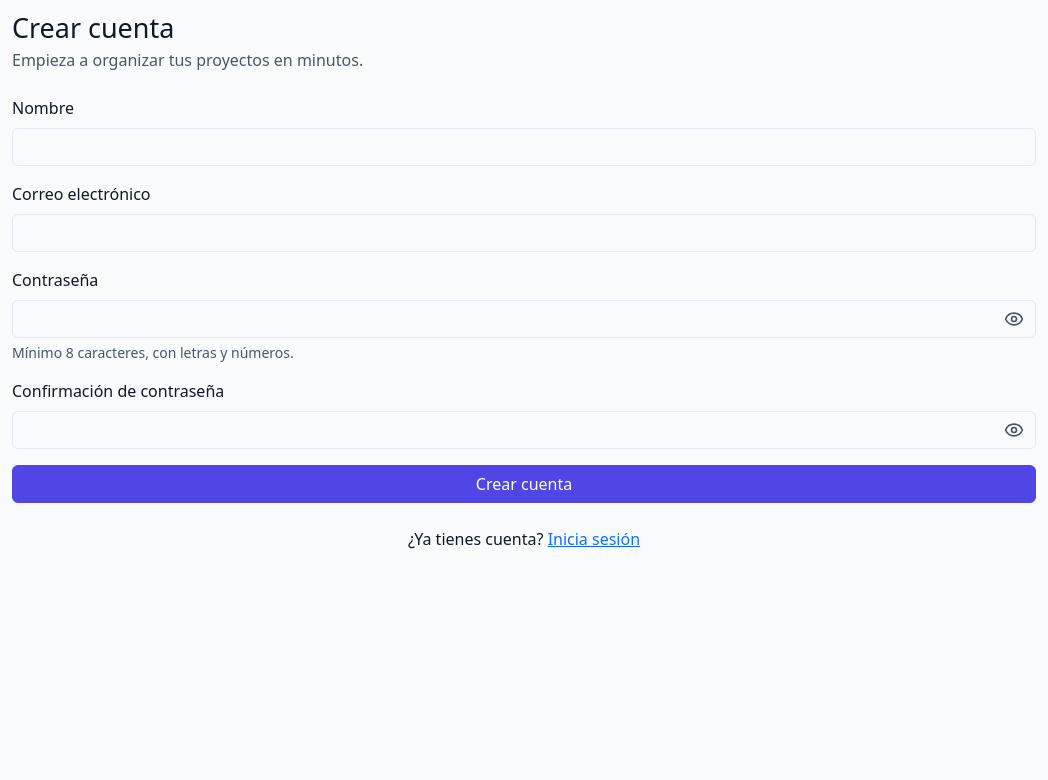
it: PaginaRegistro › rechaza una contraseña sin número
Type "abcdefgh" into the password field labelled "Contraseña" at (524, 319), box left=12, top=300, right=1036, bottom=338
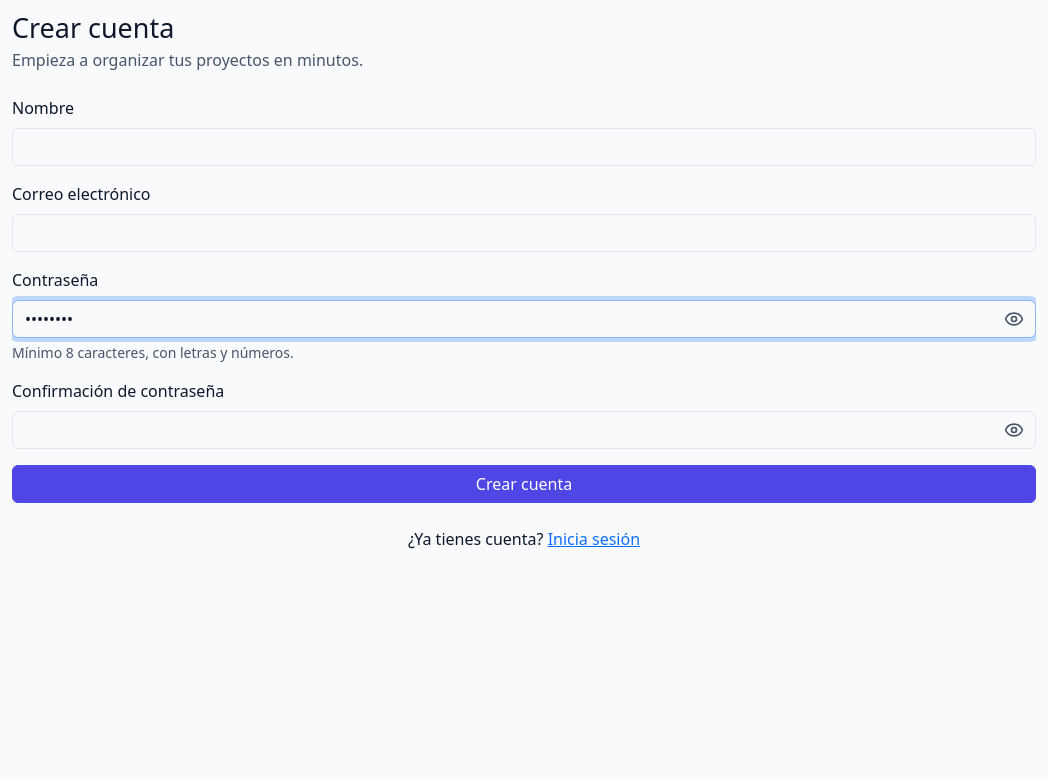
Type "abcdefgh" into the password field labelled "Confirmación de contraseña" at (524, 430), box left=12, top=411, right=1036, bottom=449
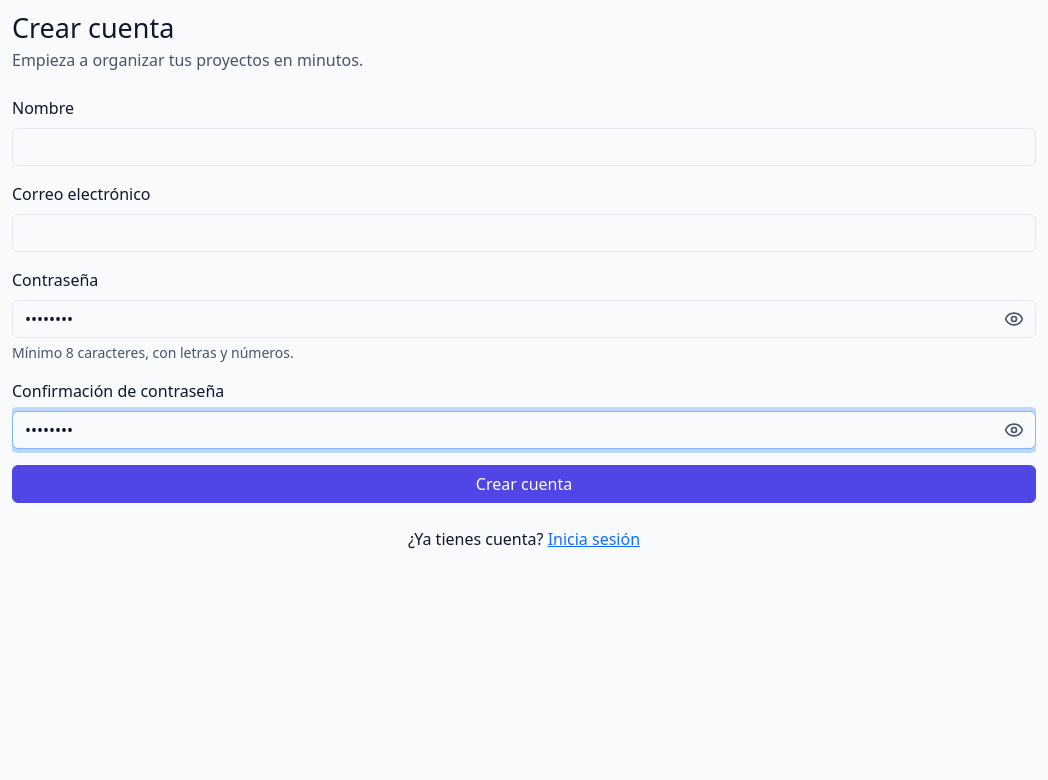
Click the button "Crear cuenta" at (524, 484), box left=12, top=465, right=1036, bottom=503
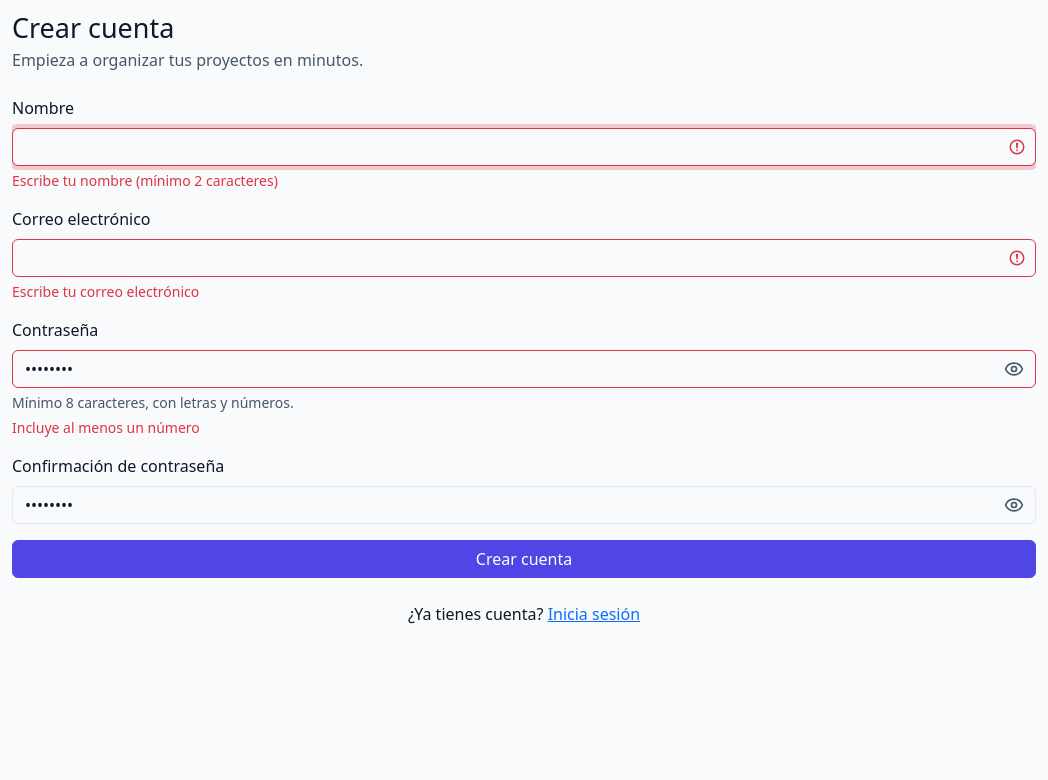
Result: the text "Incluye al menos un número" is shown at left=12, top=418, right=200, bottom=437
